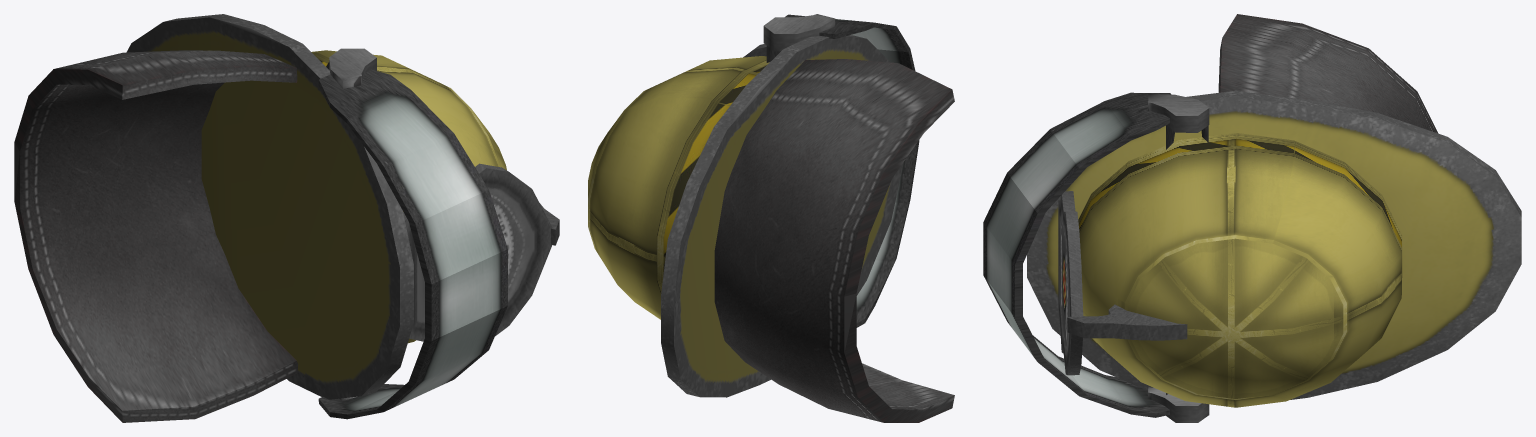
The model's file is F_Js_FireFighter_Helmet_VisorUp.fbx.
3 views of the same model, side by side, from view 1: azimuth 30°, elevation 25°; view 2: azimuth 150°, elevation 25°; view 3: azimuth 270°, elevation 25° (orthographic). The views are drawn at different scales.
Visible parts, largest first — view 1: Visor.001; view 2: Visor.001; view 3: Visor.001.
Part boxes in pixels (x1,y1,x2,y2): Visor.001: (14,14,559,422); Visor.001: (588,14,954,422); Visor.001: (983,14,1521,422).
Bounding box in the file's own units: 0.1787 × 0.1629 × 0.245.
